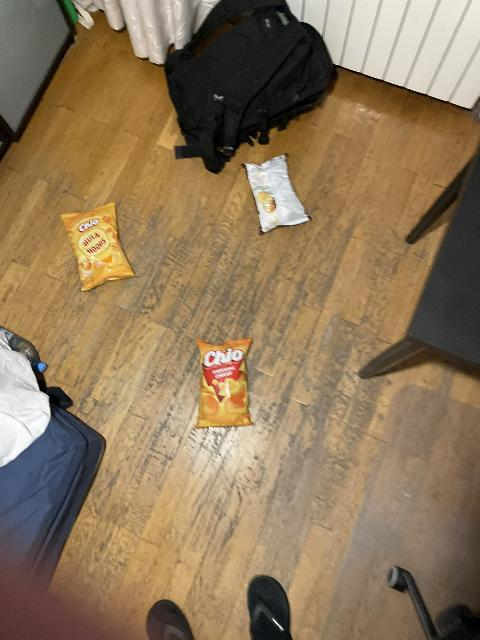Chio Cascaval 125g: (194, 337, 256, 429)
Chio Hula Hoops Cheese 70g: (59, 203, 138, 292)
Lays Beef Grilled Ribs 125g: (243, 154, 311, 233)
